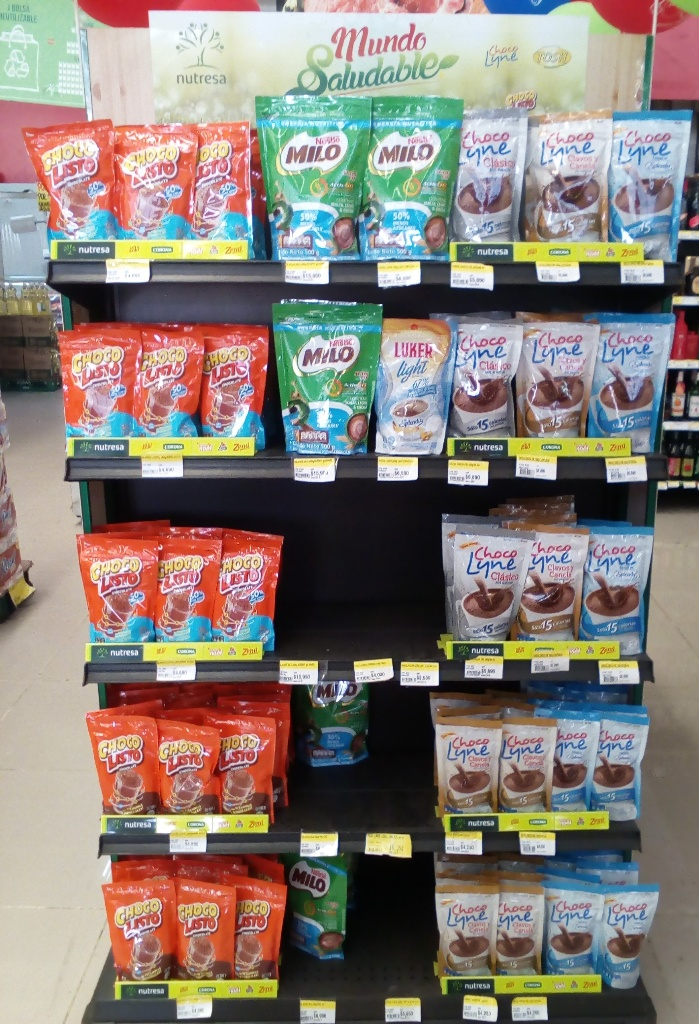COL0170103DYP20000: (212, 718, 277, 816)
COL0170104DYP20000: (111, 122, 196, 239)
COL0170205DYP20000: (284, 852, 355, 969)
COL0170205DYP50000: (361, 95, 461, 256)
